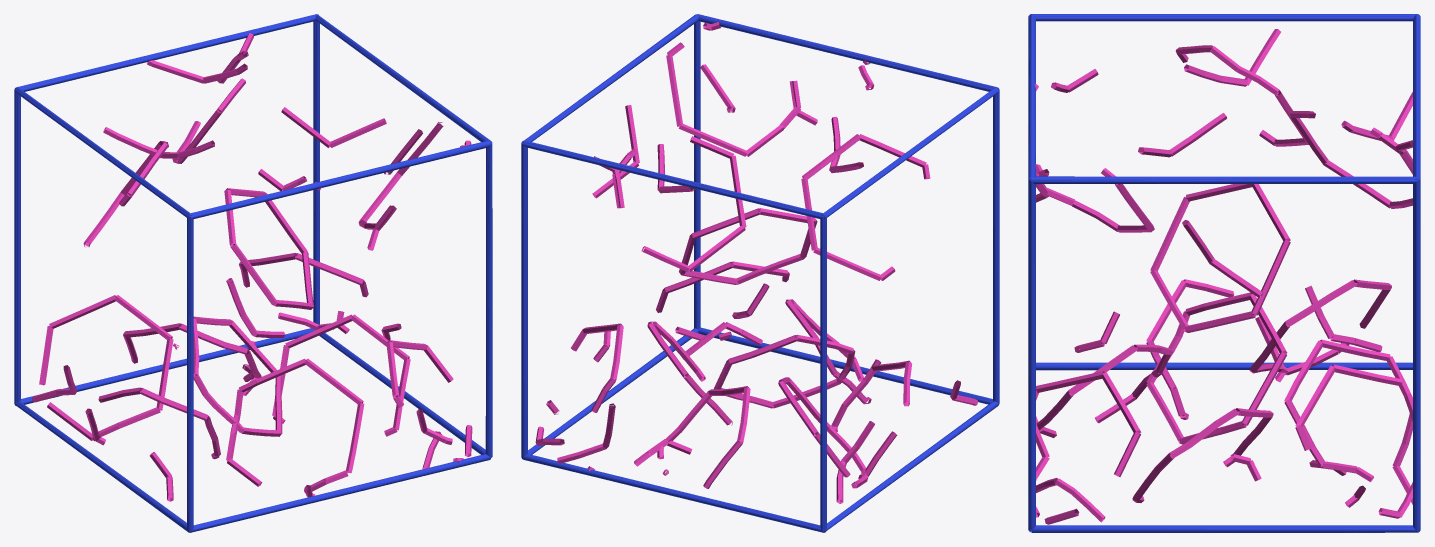
3 renders of one model, left to right at view 1: azimuth 30°, elevation 25°; view 2: azimuth 150°, elevation 25°; view 3: azimuth 270°, elevation 25°, orthographic. The views are drawn at different scales.
Visible parts, largest first — view 1: Shape_IndexedLineSet.001, Shape_IndexedLineSet; view 2: Shape_IndexedLineSet.001, Shape_IndexedLineSet; view 3: Shape_IndexedLineSet.001, Shape_IndexedLineSet.
Boxes of the visible parts, <box> form: Shape_IndexedLineSet.001: <box>32,33,472,501</box>; Shape_IndexedLineSet: <box>14,14,492,532</box>; Shape_IndexedLineSet.001: <box>535,22,978,503</box>; Shape_IndexedLineSet: <box>521,14,999,532</box>; Shape_IndexedLineSet.001: <box>1034,29,1413,524</box>; Shape_IndexedLineSet: <box>1028,14,1420,532</box>.
Size of the model in its own units: 1.02 by 1.02 by 1.02.
